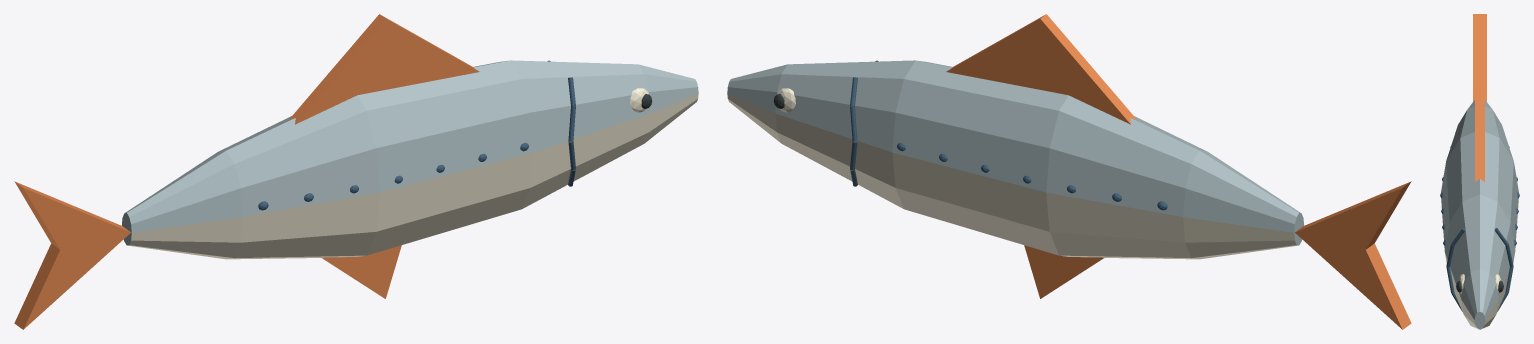
File: harbor_salmon.glb
3 renders of one model, left to right at view 1: azimuth 30°, elevation 25°; view 2: azimuth 150°, elevation 25°; view 3: azimuth 270°, elevation 25°, orthographic. The views are drawn at different scales.
Parts seen in each view (by area): view 1: metal, ivory, orange, navy; view 2: metal, ivory, orange, navy; view 3: metal, orange, navy, ivory, rubber.
Part boxes in pixels (x1,y1,x2,y2): metal: (122, 60, 698, 245); ivory: (127, 88, 698, 259); orange: (14, 14, 479, 329); navy: (258, 60, 575, 210); metal: (727, 60, 1303, 245); ivory: (727, 88, 1298, 259); orange: (946, 14, 1411, 329); navy: (850, 60, 1167, 210); metal: (1441, 100, 1518, 329); orange: (1473, 14, 1486, 181); navy: (1440, 146, 1519, 311); ivory: (1445, 253, 1514, 329); rubber: (1456, 280, 1503, 292).
Size of the model in its own units: 1.52 by 0.604 by 0.2037.
